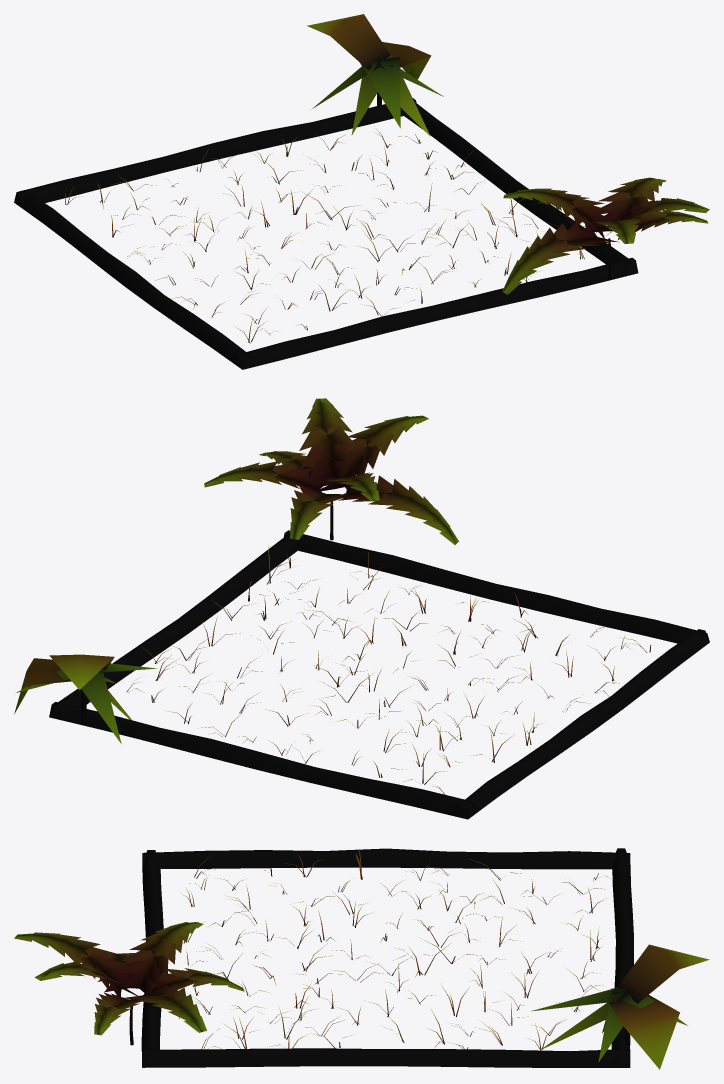
File: patch_paddy_grove_far.glb
The picture shows the model from 3 angles, top to bottom: view 1: azimuth 30°, elevation 25°; view 2: azimuth 150°, elevation 25°; view 3: azimuth 270°, elevation 25°; orthographic projection. The views are drawn at different scales.
Parts seen in each view (by area): view 1: patch_paddy_grove_far; view 2: patch_paddy_grove_far; view 3: patch_paddy_grove_far.
Boxes of the visible parts, left/top/right/bottom form: patch_paddy_grove_far: left=14, top=14, right=709, bottom=369; patch_paddy_grove_far: left=14, top=398, right=709, bottom=819; patch_paddy_grove_far: left=14, top=848, right=709, bottom=1069.
Size of the model in its own units: 13.77 by 2.85 by 17.11.
1 material, 1 textured.
